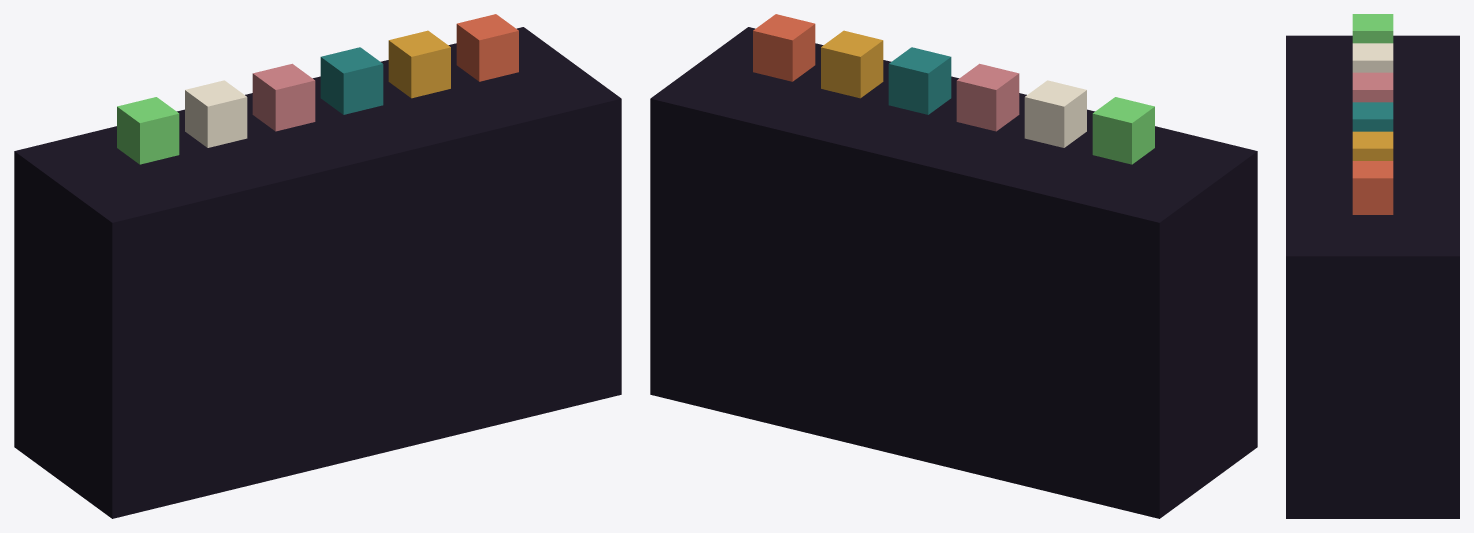
Rendered from prize_counter.glb.
3 views of the same model, side by side, from view 1: azimuth 30°, elevation 25°; view 2: azimuth 150°, elevation 25°; view 3: azimuth 270°, elevation 25° (orthographic). The views are drawn at different scales.
Parts seen in each view (by area): view 1: Box1, Box6, Box5, Box4, Box8, Box3, Box7; view 2: Box1, Box6, Box5, Box4, Box8, Box3, Box7; view 3: Box1, Box3, Box6, Box5, Box7, Box4, Box8.
Part boxes in pixels (x1,y1,x2,y2): Box1: (14, 27, 621, 518); Box6: (252, 63, 315, 131); Box5: (320, 47, 383, 114); Box4: (388, 30, 450, 98); Box8: (117, 97, 179, 164); Box3: (456, 14, 518, 81); Box7: (185, 80, 247, 147); Box1: (650, 27, 1257, 518); Box6: (956, 63, 1019, 131); Box5: (888, 47, 951, 114); Box4: (821, 30, 883, 98); Box8: (1092, 97, 1154, 164); Box3: (753, 14, 815, 81); Box7: (1024, 80, 1086, 147); Box1: (1286, 35, 1459, 518); Box3: (1352, 161, 1393, 214); Box6: (1352, 72, 1393, 102); Box5: (1352, 102, 1393, 131); Box7: (1352, 43, 1393, 72); Box4: (1352, 131, 1393, 160); Box8: (1352, 14, 1393, 43).
Size of the model in its own units: 1.8 by 1.19 by 0.6.
